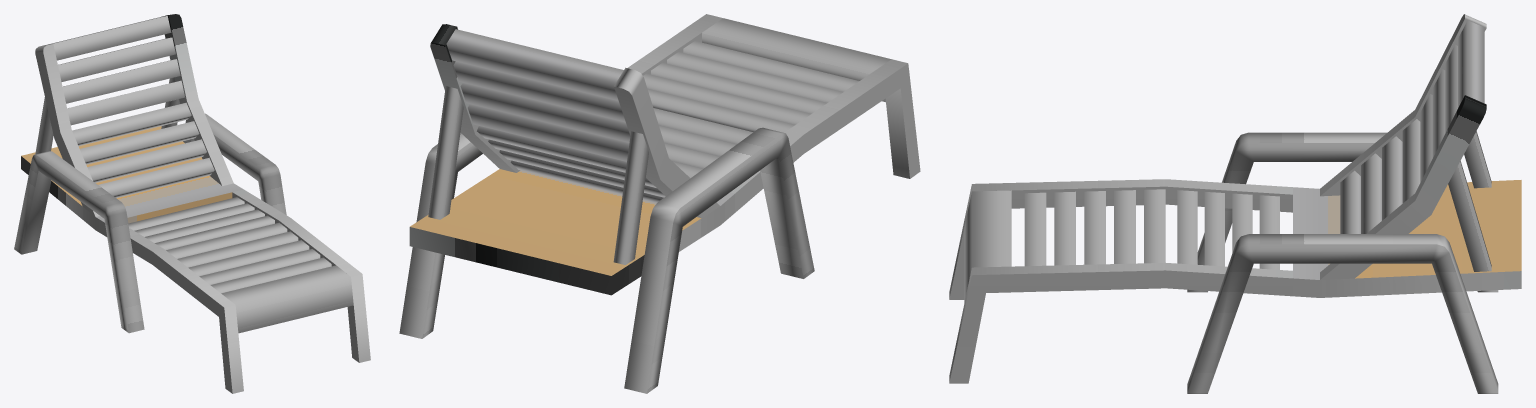
File: objects_un_t01beachbed01.gltf
3 renders of one model, left to right at view 1: azimuth 30°, elevation 25°; view 2: azimuth 150°, elevation 25°; view 3: azimuth 270°, elevation 25°, orthographic. The views are drawn at different scales.
Parts seen in each view (by area): view 1: objects_un_t01beachbed01_mesh_shape:objects_un_t01beachbed01; view 2: objects_un_t01beachbed01_mesh_shape:objects_un_t01beachbed01; view 3: objects_un_t01beachbed01_mesh_shape:objects_un_t01beachbed01.
Boxes of the visible parts, x1,y1,x2,y2 form: objects_un_t01beachbed01_mesh_shape:objects_un_t01beachbed01: (14, 14, 370, 393); objects_un_t01beachbed01_mesh_shape:objects_un_t01beachbed01: (399, 14, 920, 393); objects_un_t01beachbed01_mesh_shape:objects_un_t01beachbed01: (949, 14, 1521, 393).
Size of what is drawn, in the model's own units: 0.7438 by 0.8713 by 1.61.
Materials: 1 (1 with a texture image).
